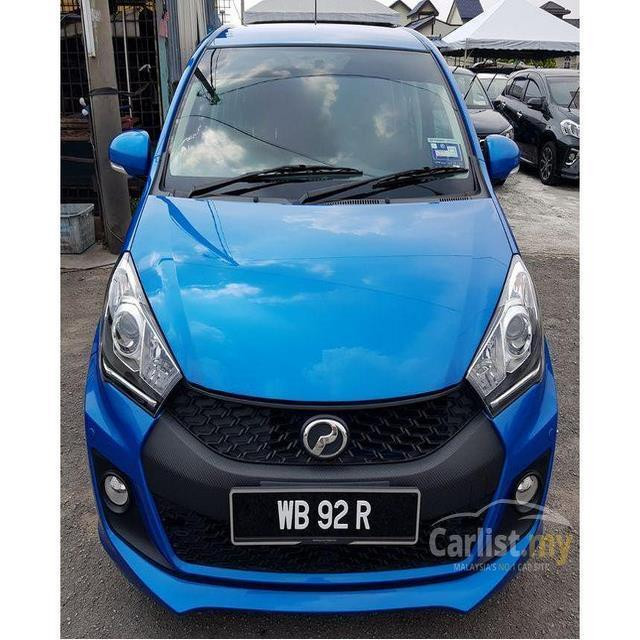License_Plate: (224, 482, 425, 557)
car: (81, 17, 560, 618)
